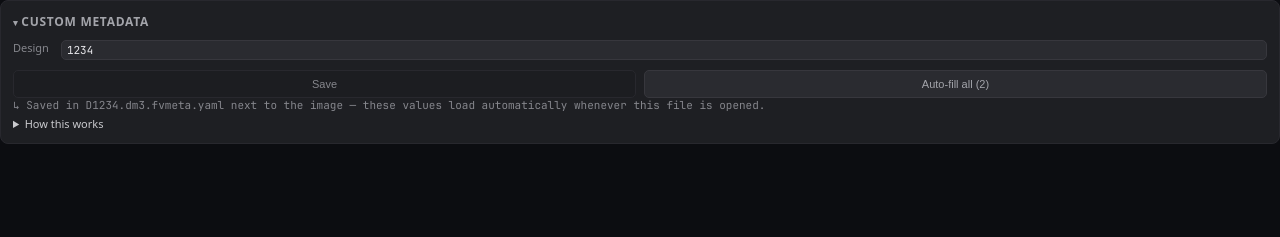
CustomMetaCard › 'How this works' is collapsed by default and expands on toggle
This screenshot has width=1280, height=237.
Expected: the text "Design" is shown, top-left (13, 40), bottom-right (49, 60)
What coordinates should you click on to do the following:
click the heading "How this works"
I would click on:
 (64, 124)
Its box is top-left (25, 116), bottom-right (103, 131).
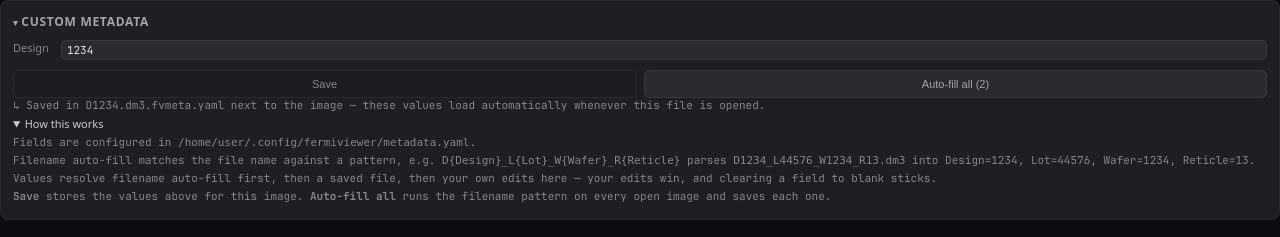
Result: the text "/home/user/.config/fermiviewer/metadata.yaml" is shown at top-left (178, 136), bottom-right (469, 149)
Result: the text "D1234_L44576_W1234_R13.dm3" is shown at top-left (733, 154), bottom-right (906, 167)
Result: the text "Fields are configured in" is shown at top-left (13, 135), bottom-right (171, 149)
